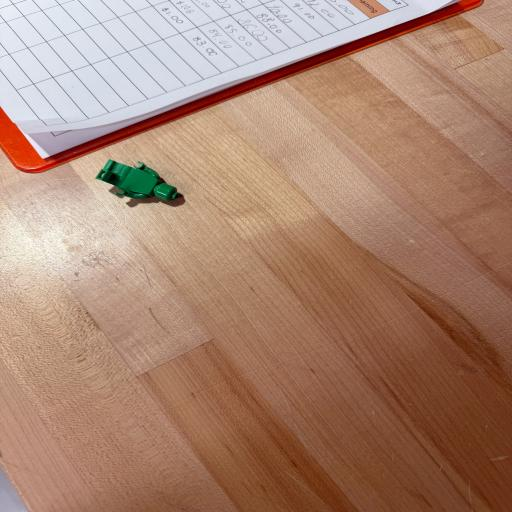Lego-Dude: (96, 160, 178, 201)
